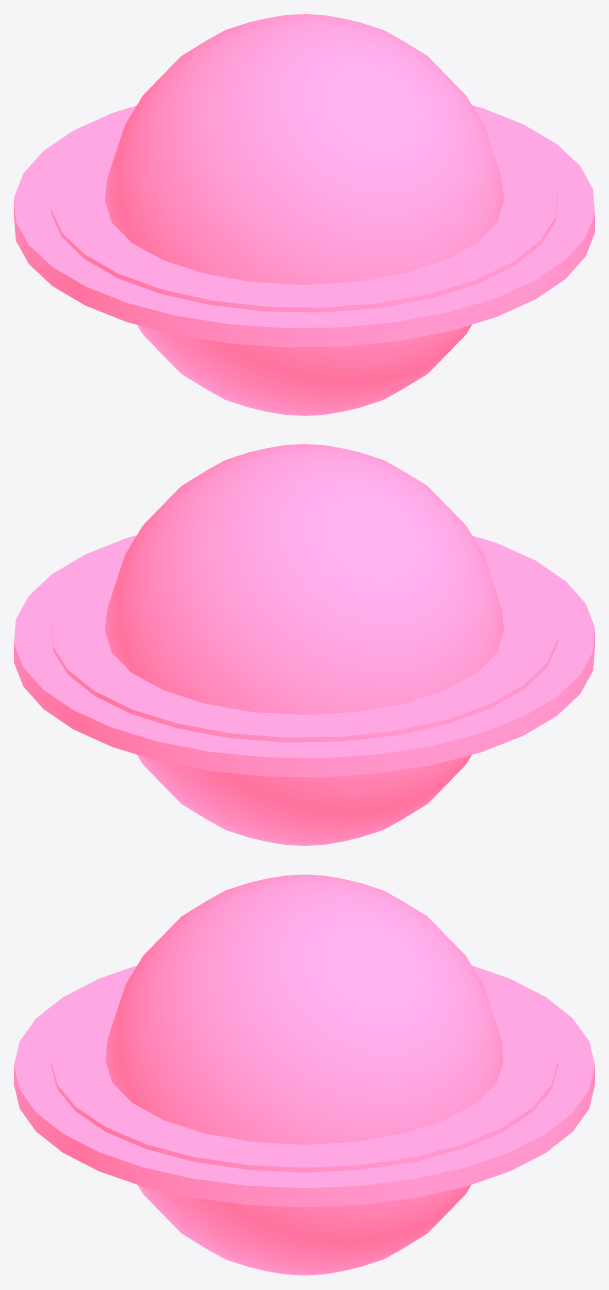
Rendered from cyberdome_core.glb.
3 views of the same model, one above another, from view 1: azimuth 30°, elevation 25°; view 2: azimuth 150°, elevation 25°; view 3: azimuth 270°, elevation 25° (orthographic).
Parts seen in each view (by area): view 1: CyberDomeAsset; view 2: CyberDomeAsset; view 3: CyberDomeAsset.
Part boxes in pixels (bbox=[...]): CyberDomeAsset: bbox=[14, 14, 594, 415]; CyberDomeAsset: bbox=[14, 444, 594, 845]; CyberDomeAsset: bbox=[14, 874, 594, 1275].
Bounding box in the file's own units: 1.1 × 0.76 × 1.1.
